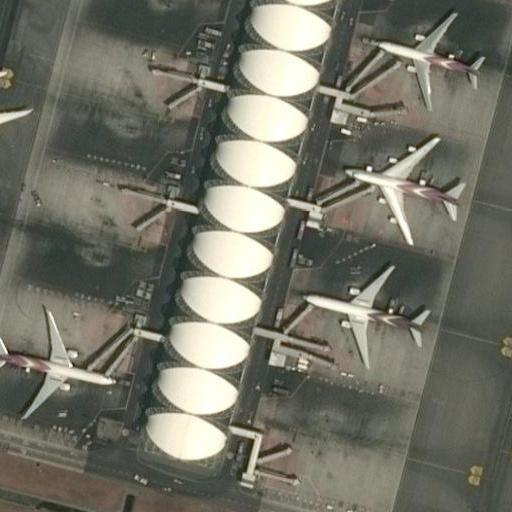Aircraft: (302, 259, 438, 371), (338, 128, 462, 242), (0, 302, 116, 419), (375, 10, 481, 112), (0, 48, 31, 157)
